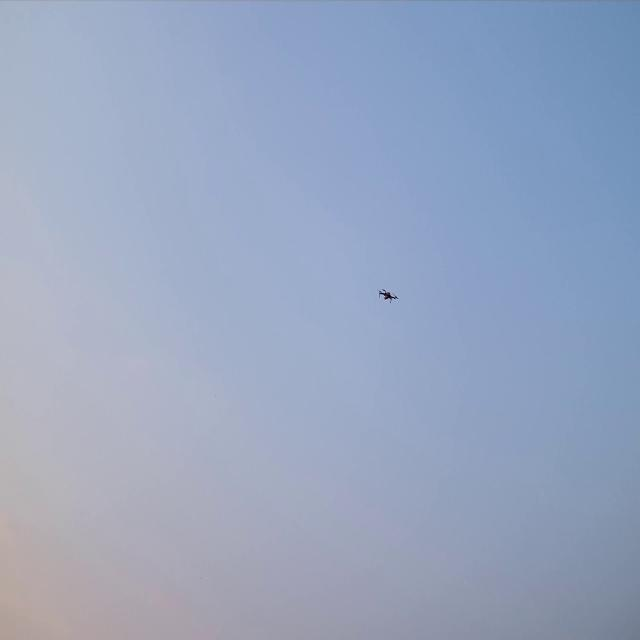UAV: (379, 290, 397, 301)
